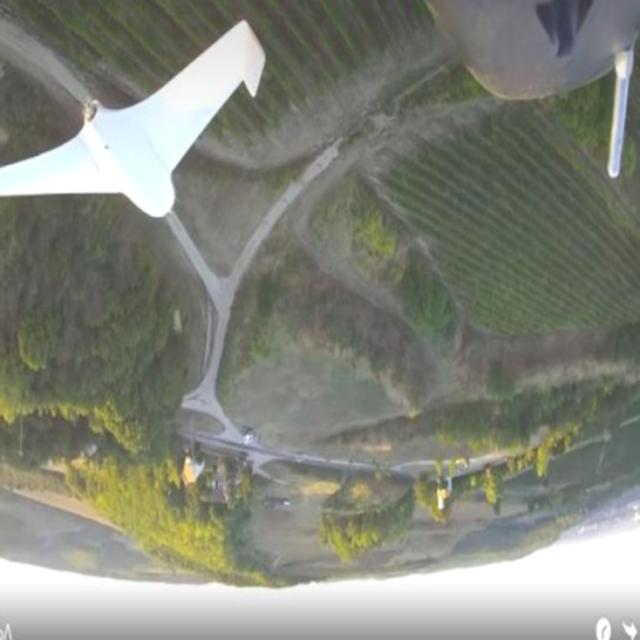plane: (0, 19, 269, 238)
